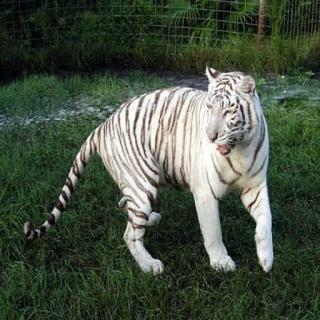Tiger: (14, 54, 277, 281)
